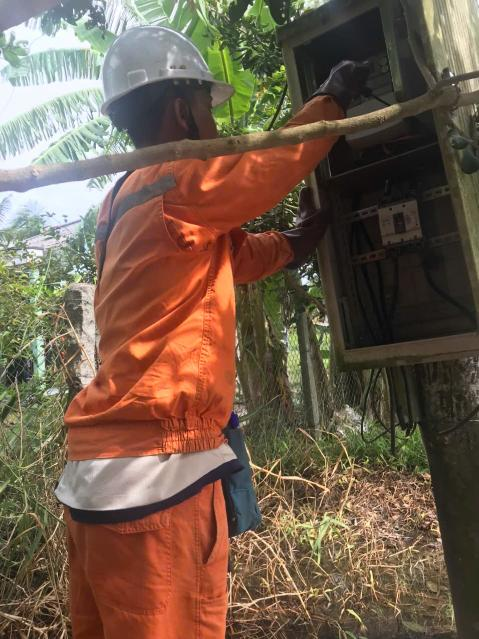gloves: (273, 192, 347, 255), (299, 62, 379, 109)
helmet: (90, 20, 231, 107)
